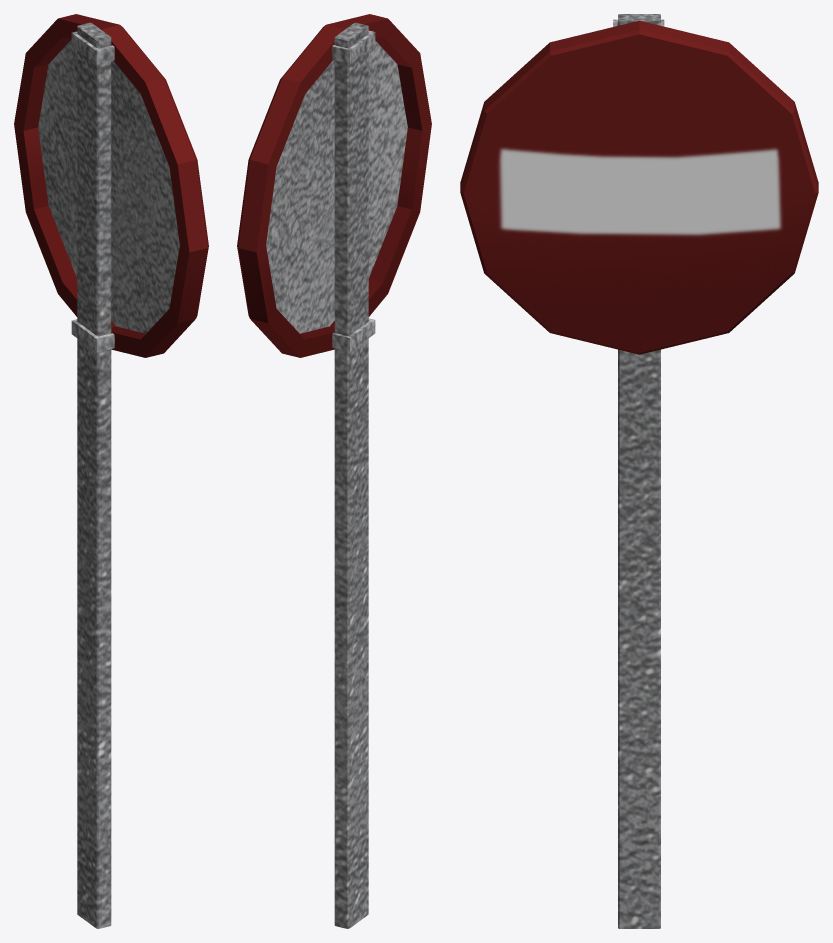
File: señal_stop.fbx
3 views of the same model, side by side, from view 1: azimuth 30°, elevation 25°; view 2: azimuth 150°, elevation 25°; view 3: azimuth 270°, elevation 25° (orthographic). The views are drawn at different scales.
Visible parts, largest first — view 1: señal; view 2: señal; view 3: señal.
Boxes of the visible parts, bbox=[...] form: señal: bbox=[14, 14, 208, 928]; señal: bbox=[237, 14, 431, 928]; señal: bbox=[460, 14, 818, 928].
Bounding box in the file's own units: 12.93 × 280 × 100.
